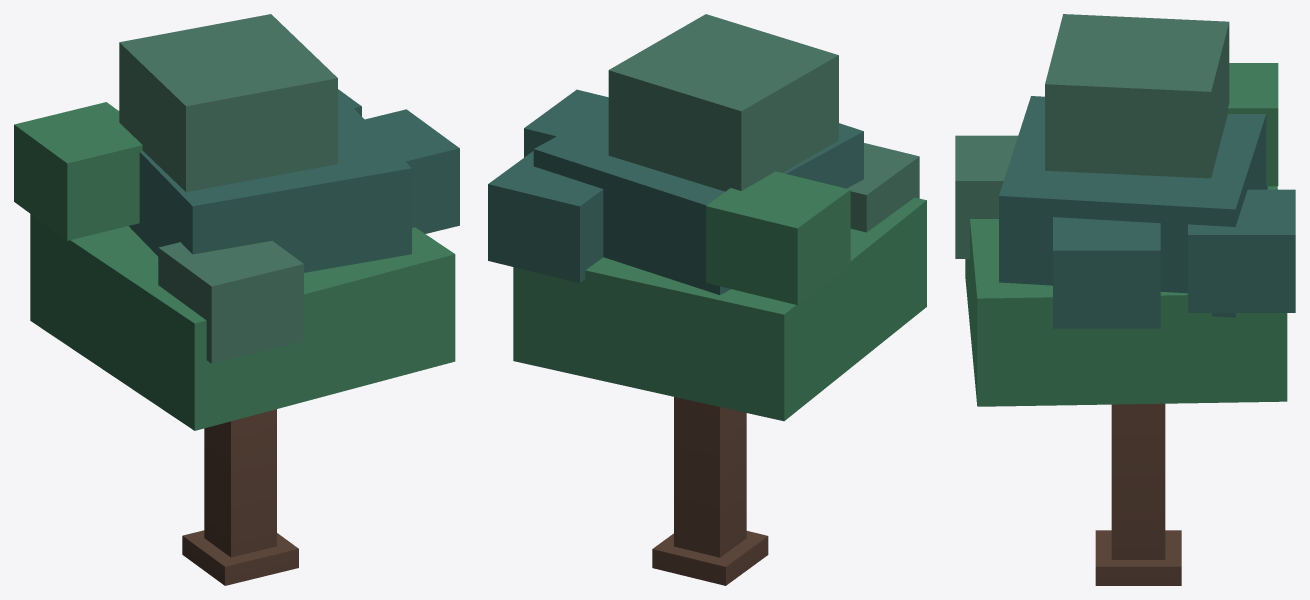
Rendered from night-tree.glb.
3 renders of one model, left to right at view 1: azimuth 30°, elevation 25°; view 2: azimuth 150°, elevation 25°; view 3: azimuth 270°, elevation 25°, orthographic.
Parts seen in each view (by area): view 1: night-tree_body; view 2: night-tree_body; view 3: night-tree_body.
Boxes of the visible parts, <box> form: night-tree_body: <box>14,14,459,585</box>; night-tree_body: <box>488,14,926,585</box>; night-tree_body: <box>955,14,1295,585</box>.
Bounding box in the file's own units: 4.56 × 6.58 × 3.99.
